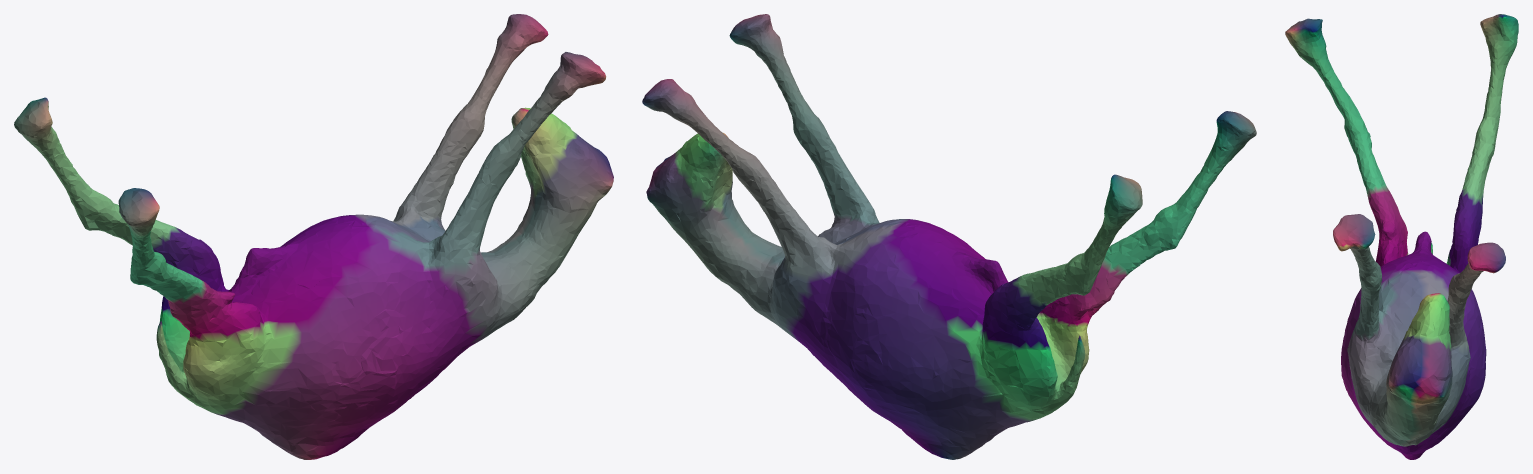
Rendered from camel-2.off.obj.
3 renders of one model, left to right at view 1: azimuth 30°, elevation 25°; view 2: azimuth 150°, elevation 25°; view 3: azimuth 270°, elevation 25°, orthographic. The views are drawn at different scales.
Size of the model in its own units: 1.43 by 0.9422 by 0.5823.
